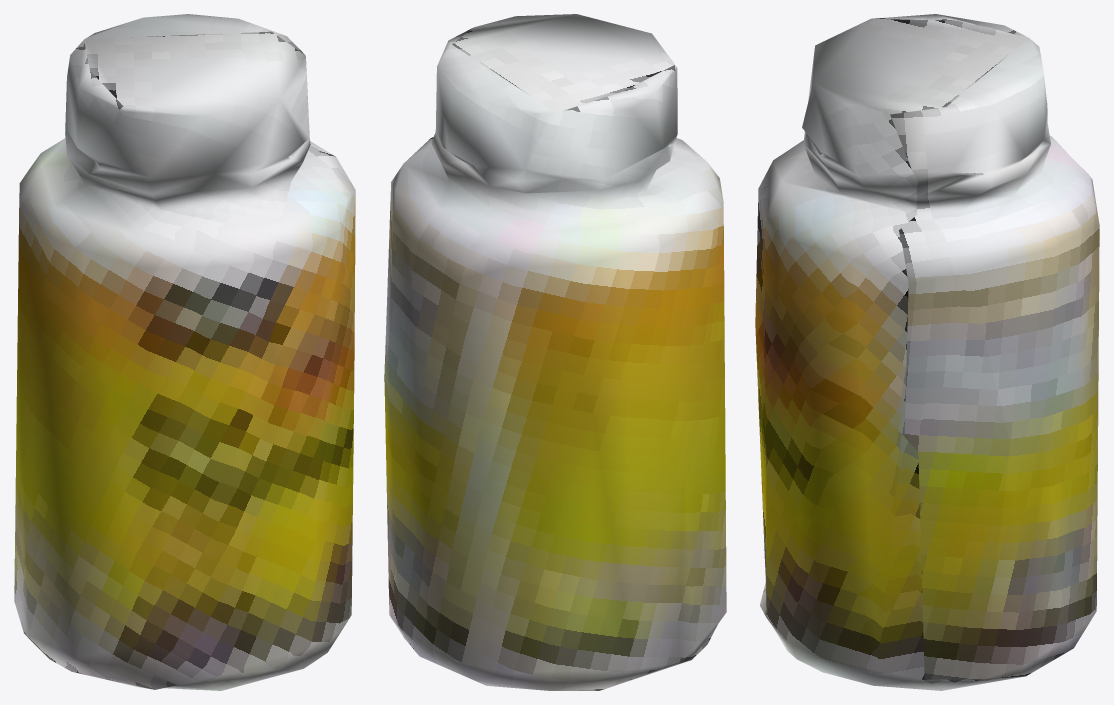
Rendered from Pet_Dophilus_powder-low.glb.
3 views of the same model, side by side, from view 1: azimuth 30°, elevation 25°; view 2: azimuth 150°, elevation 25°; view 3: azimuth 270°, elevation 25° (orthographic).
Parts seen in each view (by area): view 1: Pet_Dophilus_powder; view 2: Pet_Dophilus_powder; view 3: Pet_Dophilus_powder.
Boxes of the visible parts, x1=… form: Pet_Dophilus_powder: x1=14, y1=14, x2=355, y2=690; Pet_Dophilus_powder: x1=384, y1=14, x2=726, y2=690; Pet_Dophilus_powder: x1=755, y1=14, x2=1099, y2=690.
Bounding box in the file's own units: 0.0553 × 0.102 × 0.0555.
Materials: 1 (1 with a texture image).
